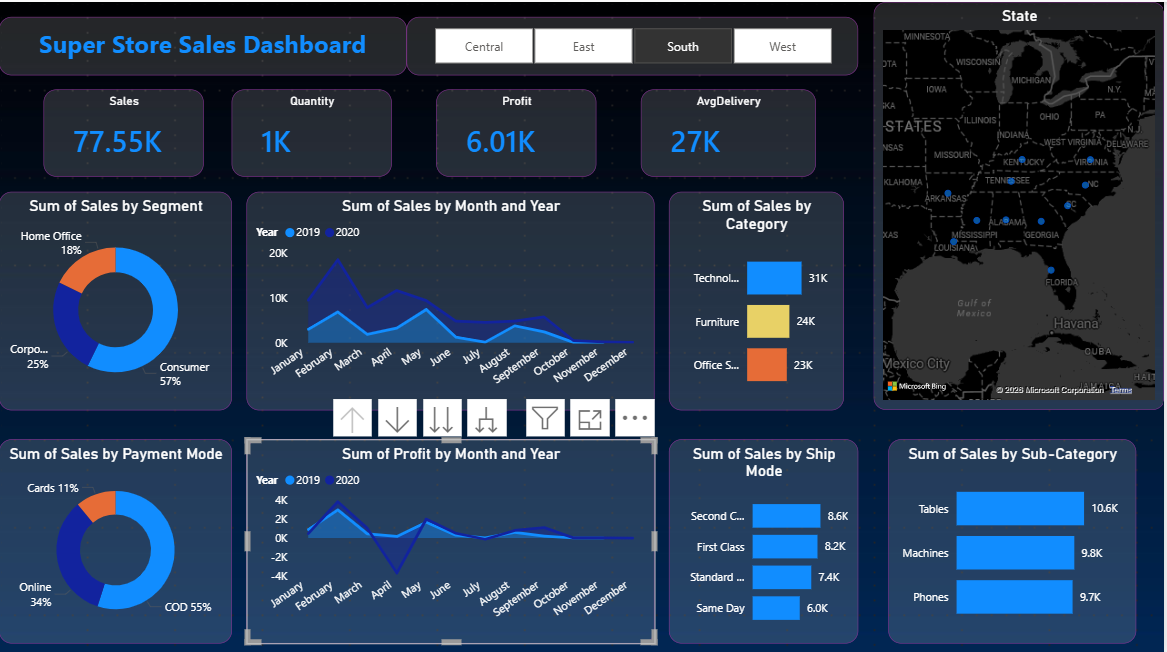

This screenshot's page, from the dashboard's own definition file:
{"tool":"powerbi","page":{"name":"Page 1","canvas":[1280,720],"ordinal":0},"visuals":[{"type":"clusteredBarChart","fields":{"Category":["SuperStore_Sales_Dataset.Category"],"Y":["Sum(SuperStore_Sales_Dataset.Sales)"]},"box":[736,208,256,240],"z":0},{"type":"clusteredBarChart","fields":{"Category":["SuperStore_Sales_Dataset.Sub-Category"],"Y":["Sum(SuperStore_Sales_Dataset.Profit)"]},"box":[1008,480,256,224],"z":1000},{"type":"clusteredBarChart","fields":{"Category":["SuperStore_Sales_Dataset.Ship Mode"],"Y":["Sum(SuperStore_Sales_Dataset.Sales)"]},"box":[736,480,256,224],"z":2000},{"type":"stackedAreaChart","fields":{"Y":["Sum(SuperStore_Sales_Dataset.Sales)"],"Category":["SuperStore_Sales_Dataset.Order Date.Variation.Date Hierarchy.Month","SuperStore_Sales_Dataset.Order Date.Variation.Date Hierarchy.Day"],"Series":["SuperStore_Sales_Dataset.Order Date.Variation.Date Hierarchy.Year"]},"box":[288,208,432,240],"z":3000},{"type":"stackedAreaChart","fields":{"Category":["SuperStore_Sales_Dataset.Order Date.Variation.Date Hierarchy.Month","SuperStore_Sales_Dataset.Order Date.Variation.Date Hierarchy.Day"],"Series":["SuperStore_Sales_Dataset.Order Date.Variation.Date Hierarchy.Year"],"Y":["Sum(SuperStore_Sales_Dataset.Profit)"]},"box":[288,480,432,224],"z":4000},{"type":"map","fields":{"Category":["SuperStore_Sales_Dataset.State"]},"box":[1008,0,272,448],"z":5000},{"type":"donutChart","fields":{"Category":["SuperStore_Sales_Dataset.Segment"],"Y":["Sum(SuperStore_Sales_Dataset.Sales)"]},"box":[0,208,272,240],"z":6000},{"type":"donutChart","fields":{"Category":["SuperStore_Sales_Dataset.Payment Mode"],"Y":["Sum(SuperStore_Sales_Dataset.Sales)"]},"box":[0,480,272,224],"z":7000},{"type":"slicer","fields":{"Values":["SuperStore_Sales_Dataset.Region"]},"box":[448,16,528,64],"z":8000},{"type":"textbox","box":[0,16,448,64],"z":9000},{"type":"cardVisual","title":"Sales","fields":{"Data":["Sum(SuperStore_Sales_Dataset.Sales)"]},"box":[32,96,192,96],"z":10000},{"type":"cardVisual","title":"Quantity","fields":{"Data":["Sum(SuperStore_Sales_Dataset.Quantity)"]},"box":[272,96,192,96],"z":11000},{"type":"cardVisual","title":"Profit","fields":{"Data":["Sum(SuperStore_Sales_Dataset.Profit)"]},"box":[512,96,192,96],"z":12000},{"type":"cardVisual","title":"AvgDelivery","fields":{"Data":["Sum(SuperStore_Sales_Dataset.AverageDelivery)"]},"box":[752,96,192,96],"z":13000}]}

Visuals, with their boxes in screenshot pixels (x1, y1, x2, y2), scaled from the page's 1280x720 canvas onto the 1167x652 screenshot:
clusteredBarChart - SuperStore_Sales_Dataset.Category x Sum(SuperStore_Sales_Dataset.Sales): rect(671, 188, 904, 406)
clusteredBarChart - SuperStore_Sales_Dataset.Sub-Category x Sum(SuperStore_Sales_Dataset.Profit): rect(919, 435, 1152, 638)
clusteredBarChart - SuperStore_Sales_Dataset.Ship Mode x Sum(SuperStore_Sales_Dataset.Sales): rect(671, 435, 904, 638)
stackedAreaChart - Sum(SuperStore_Sales_Dataset.Sales) x SuperStore_Sales_Dataset.Order Date.Variation.Date Hierarchy.Month: rect(263, 188, 656, 406)
stackedAreaChart - SuperStore_Sales_Dataset.Order Date.Variation.Date Hierarchy.Month x SuperStore_Sales_Dataset.Order Date.Variation.Date Hierarchy.Day: rect(263, 435, 656, 638)
map - SuperStore_Sales_Dataset.State: rect(919, 0, 1166, 406)
donutChart - SuperStore_Sales_Dataset.Segment x Sum(SuperStore_Sales_Dataset.Sales): rect(0, 188, 248, 406)
donutChart - SuperStore_Sales_Dataset.Payment Mode x Sum(SuperStore_Sales_Dataset.Sales): rect(0, 435, 248, 638)
slicer - SuperStore_Sales_Dataset.Region: rect(408, 14, 890, 72)
textbox: rect(0, 14, 408, 72)
"Sales" cardVisual: rect(29, 87, 204, 174)
"Quantity" cardVisual: rect(248, 87, 423, 174)
"Profit" cardVisual: rect(467, 87, 642, 174)
"AvgDelivery" cardVisual: rect(686, 87, 861, 174)
